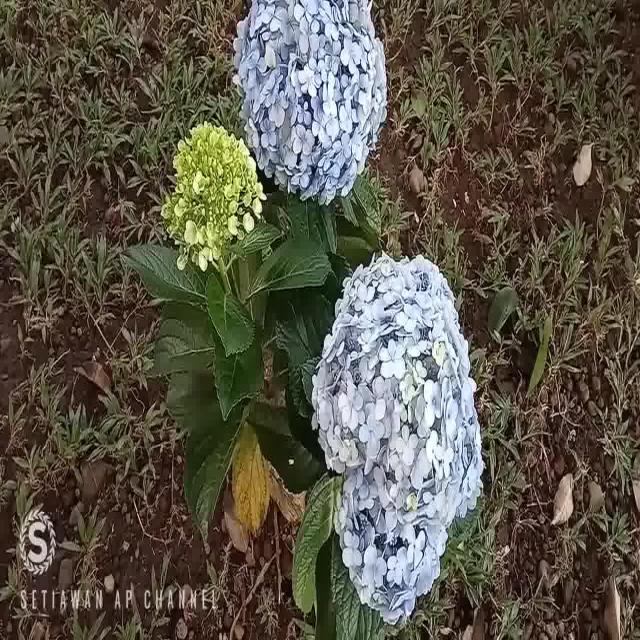Flower: (316, 251, 484, 629), (236, 1, 391, 208), (156, 115, 266, 270)
